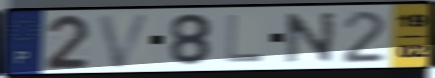2: (46, 13, 93, 72), (341, 9, 388, 65)
8: (167, 12, 213, 68)
L: (223, 13, 267, 65)
N: (282, 10, 338, 66)
V: (95, 12, 155, 70)
